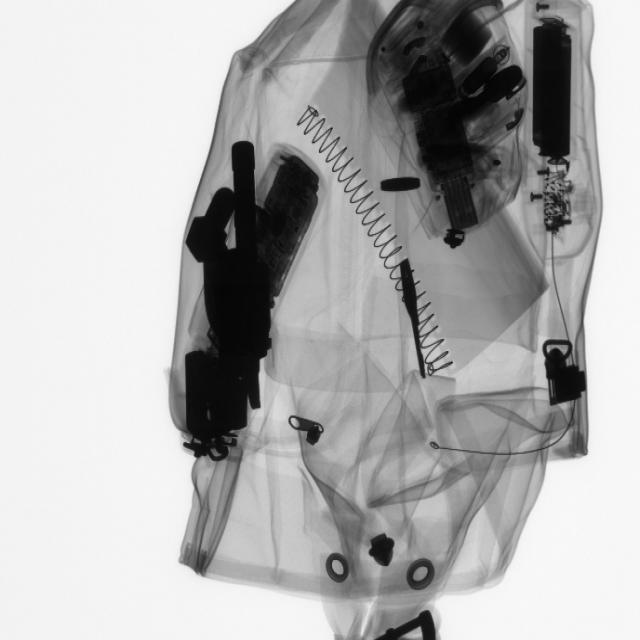GUN: (186, 127, 277, 477)
